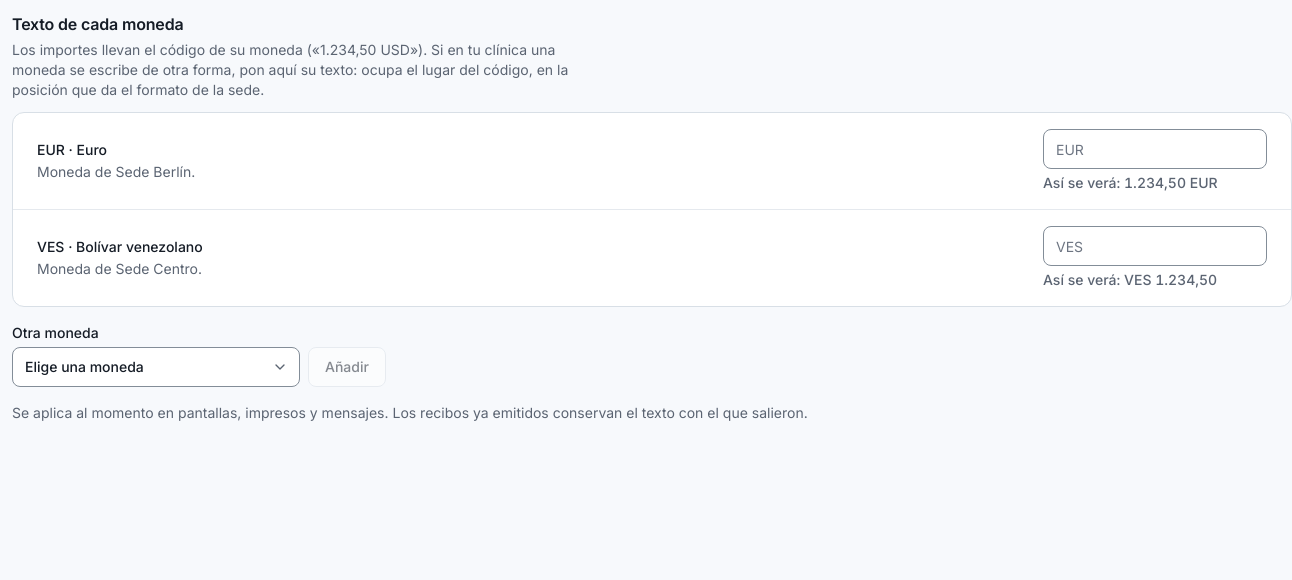
Test case: Ajustes › Monedas (DX-517) › el 400 de la API va al campo de su moneda
Step 1. Type "Bs." into the field named "Texto de VES" → (1155,246), box [1043,226,1267,266]
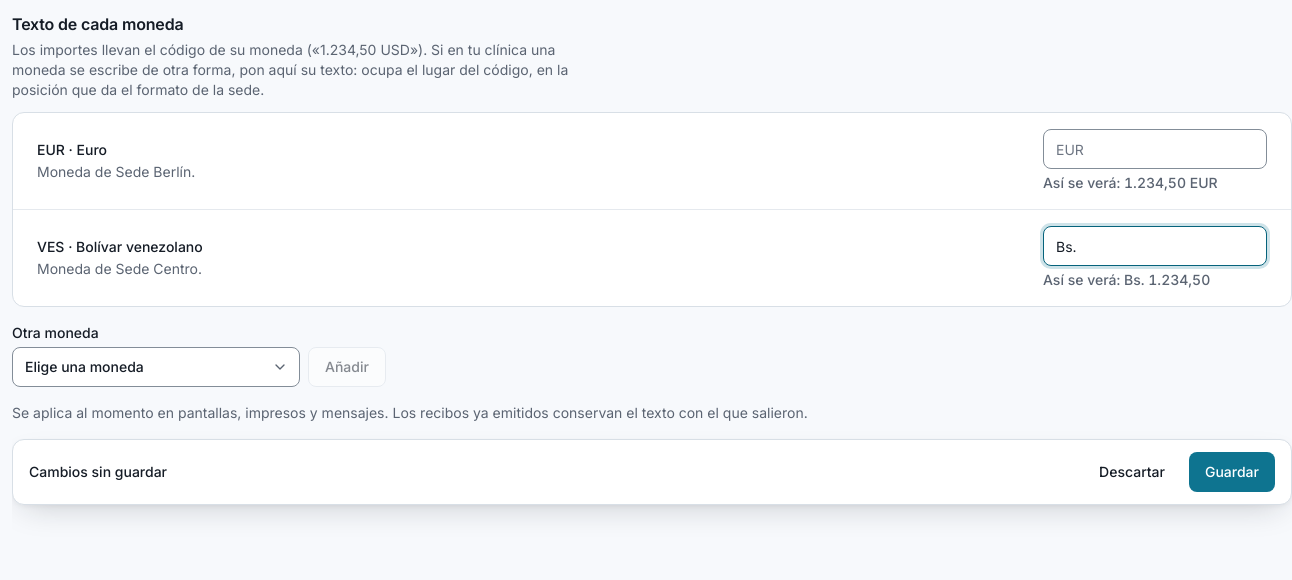
Step 2. Click the button with aria-label "Guardar el texto de las monedas" → (1232,472), box [1189,452,1275,492]
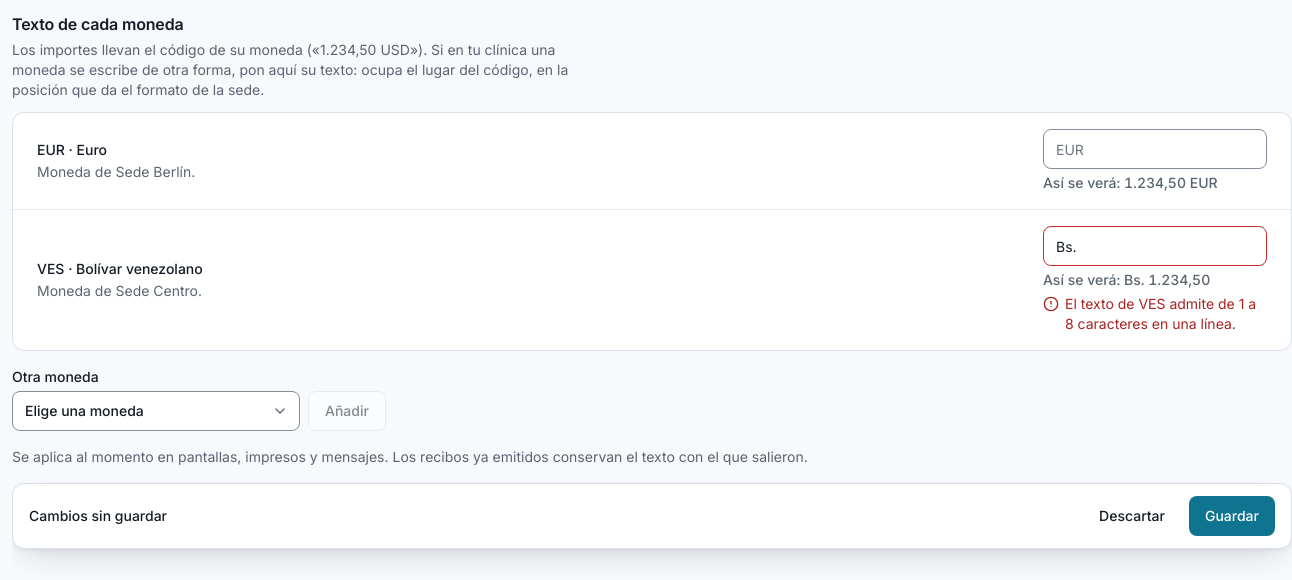
expect the text "El texto de VES admite de 1 a 8 caracteres en una línea." is shown: met, box [1065,294,1267,334]
